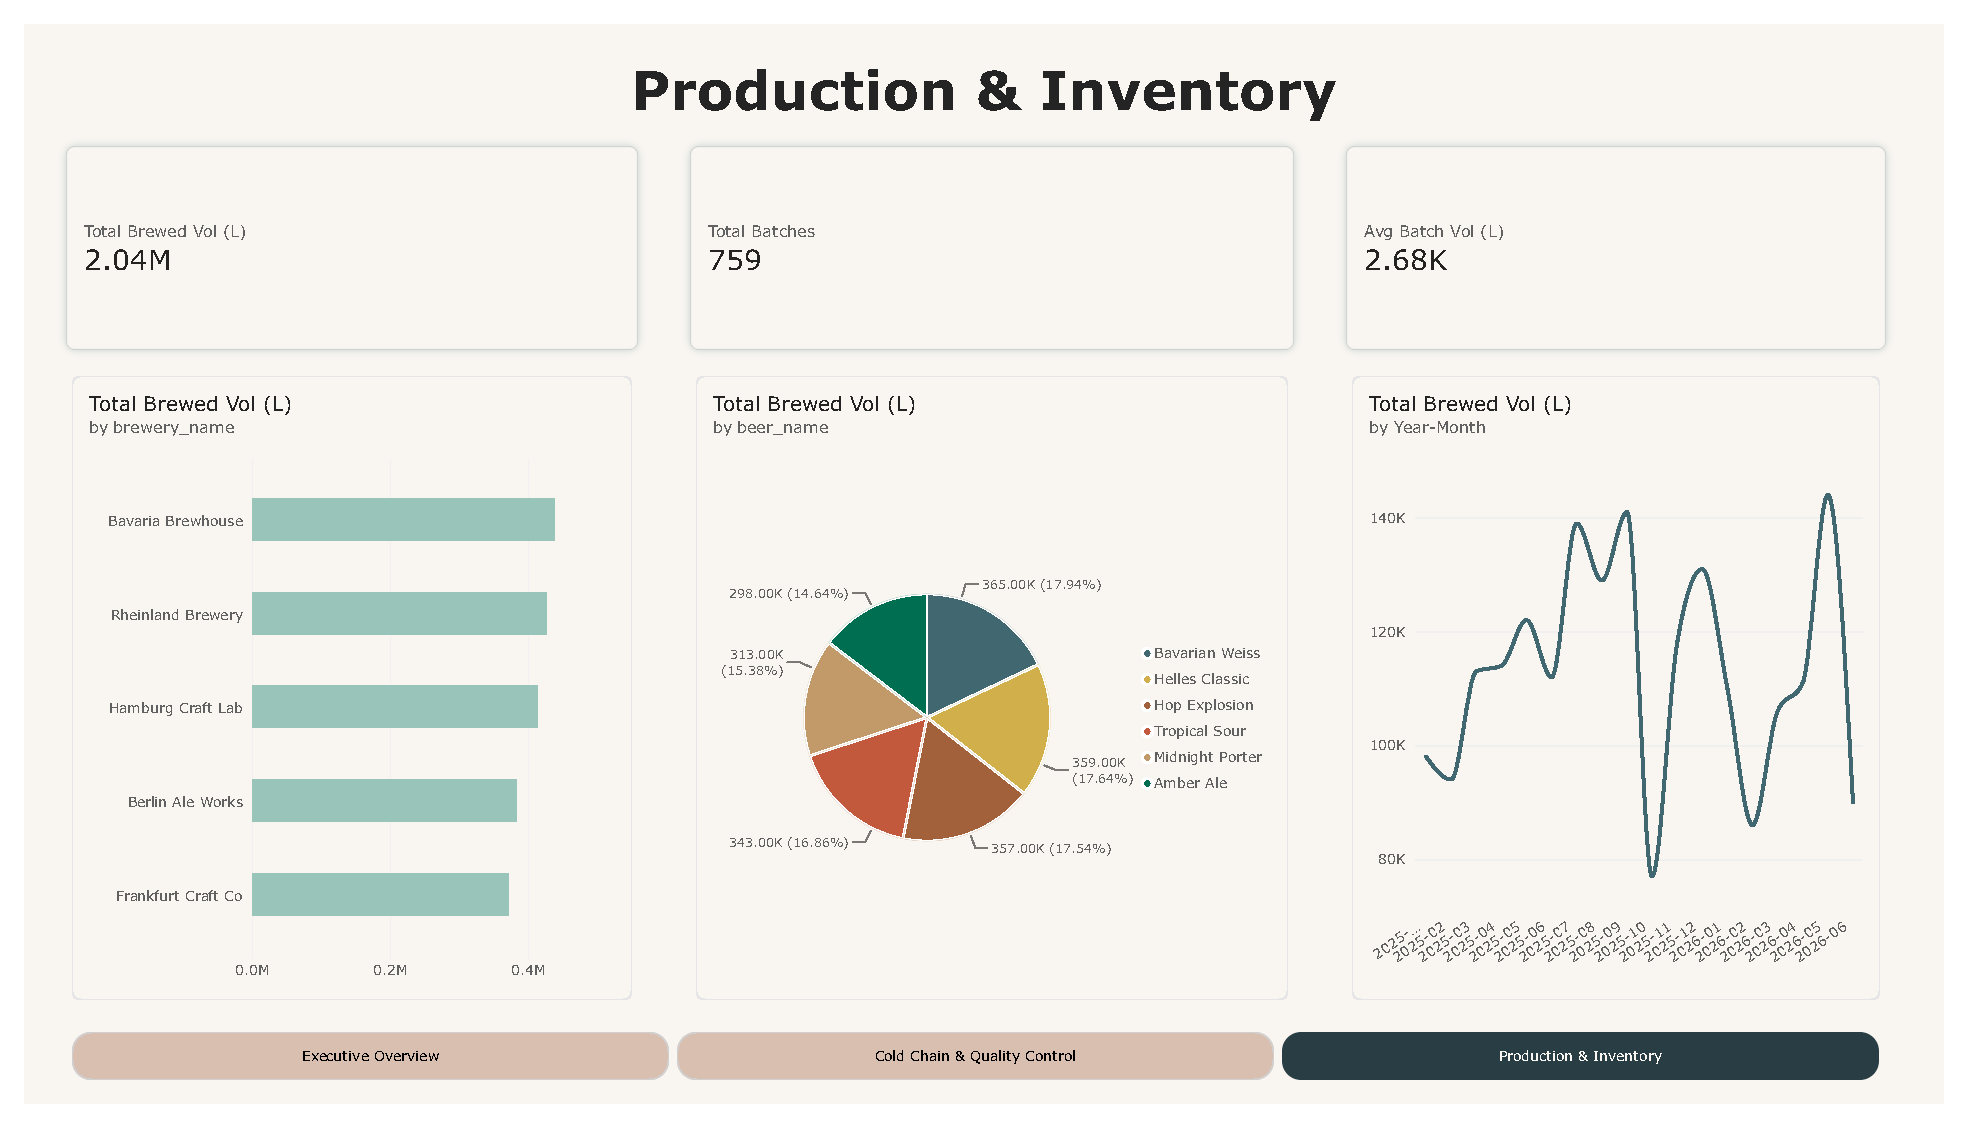

This screenshot's page, from the dashboard's own definition file:
{"tool":"powerbi","page":{"name":"Production & Inventory","canvas":[1920,1080],"ordinal":2},"visuals":[{"type":"textbox","box":[448,32,1024,80],"z":0},{"type":"cardVisual","fields":{"Data":["_Measures.Total Brewed Vol (L)"]},"box":[32,112,592,224],"z":1000},{"type":"cardVisual","fields":{"Data":["_Measures.Total Batches"]},"box":[656,112,624,224],"z":2000},{"type":"cardVisual","fields":{"Data":["_Measures.Avg Batch Vol (L)"]},"box":[1312,112,560,224],"z":3000},{"type":"barChart","fields":{"Category":["dim_breweries.brewery_name"],"Y":["_Measures.Total Brewed Vol (L)"]},"box":[48,352,560,624],"z":4000},{"type":"pieChart","fields":{"Category":["dim_beers.beer_name"],"Y":["_Measures.Total Brewed Vol (L)"]},"box":[672,352,592,624],"z":5000},{"type":"lineChart","fields":{"Category":["dim_date.Year-Month"],"Y":["_Measures.Total Brewed Vol (L)"]},"box":[1328,352,528,624],"z":6000},{"type":"pageNavigator","box":[48,1008,1808,48],"z":7000}]}

Visuals, with their boxes in screenshot pixels (x1, y1, x2, y2), scaled from the page's 1920x1080 canvas onto the 1968x1128 screenshot:
textbox: (x1=459, y1=33, x2=1509, y2=117)
cardVisual - _Measures.Total Brewed Vol (L): (x1=33, y1=117, x2=640, y2=351)
cardVisual - _Measures.Total Batches: (x1=672, y1=117, x2=1312, y2=351)
cardVisual - _Measures.Avg Batch Vol (L): (x1=1345, y1=117, x2=1919, y2=351)
barChart - dim_breweries.brewery_name x _Measures.Total Brewed Vol (L): (x1=49, y1=368, x2=623, y2=1019)
pieChart - dim_beers.beer_name x _Measures.Total Brewed Vol (L): (x1=689, y1=368, x2=1296, y2=1019)
lineChart - dim_date.Year-Month x _Measures.Total Brewed Vol (L): (x1=1361, y1=368, x2=1902, y2=1019)
pageNavigator: (x1=49, y1=1053, x2=1902, y2=1103)
